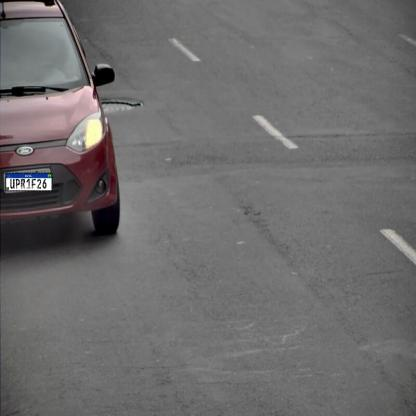PlacaM: (5, 173, 53, 191)
